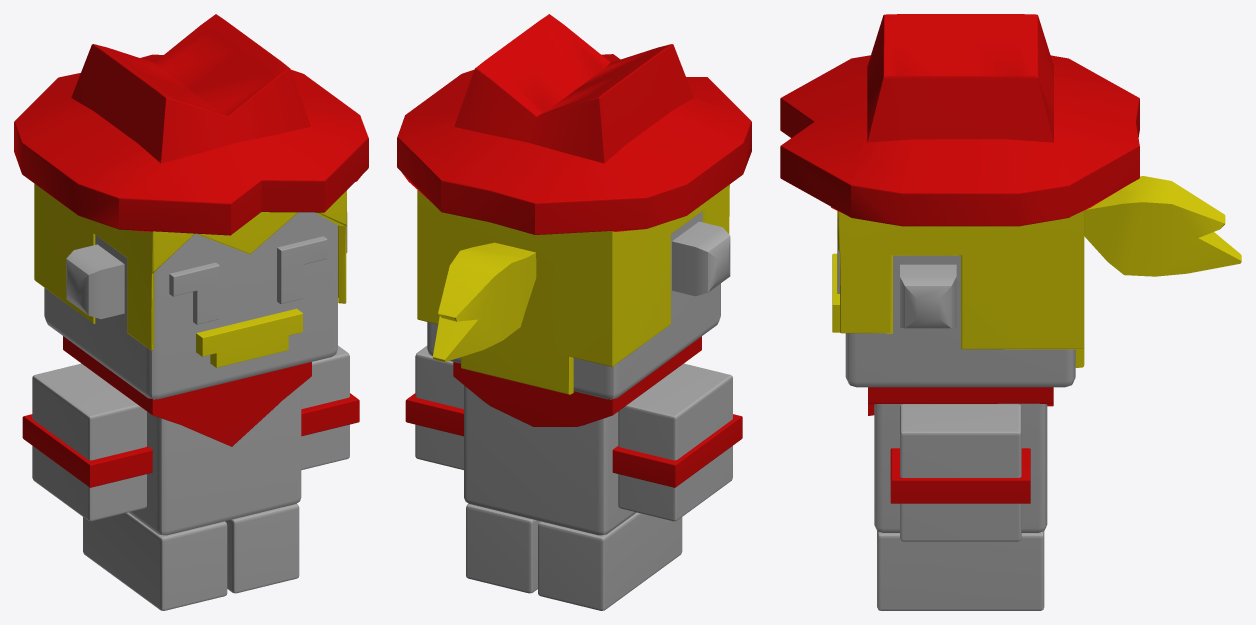
Rendered from _CowBoyFigure_low_completed_updated.fbx.
The picture shows the model from 3 angles, left to right: view 1: azimuth 30°, elevation 25°; view 2: azimuth 150°, elevation 25°; view 3: azimuth 270°, elevation 25°; orthographic projection. The views are drawn at different scales.
Visible parts, largest first — view 1: Cowboy_Hat, Head_low, Body_low, Hair, l_Arm_low, l_Leg_low, Bandana, r_Leg_low, Cufflinks, Eyes, Mustache, r_Arm_low (+1 smaller); view 2: Cowboy_Hat, Hair, Body_low, l_Arm_low, l_Leg_low, Hair_Ponytail, Head_low, Bandana, r_Leg_low, Cufflinks, r_Arm_low, Ears; view 3: Cowboy_Hat, Hair, r_Arm_low, Head_low, r_Leg_low, Hair_Ponytail, Body_low, Cufflinks, Ears, Bandana.
Part boxes in pixels (bbox=[...]): Cowboy_Hat: bbox=[14, 14, 368, 235]; Head_low: bbox=[44, 212, 337, 399]; Body_low: bbox=[81, 363, 301, 535]; Hair: bbox=[34, 183, 346, 350]; l_Arm_low: bbox=[32, 363, 146, 521]; l_Leg_low: bbox=[83, 512, 227, 610]; Bandana: bbox=[63, 336, 311, 446]; r_Leg_low: bbox=[225, 503, 299, 593]; Cufflinks: bbox=[22, 393, 359, 487]; Eyes: bbox=[169, 236, 327, 324]; Mustache: bbox=[196, 308, 302, 367]; r_Arm_low: bbox=[301, 345, 349, 469]; Cowboy_Hat: bbox=[397, 14, 751, 234]; Hair: bbox=[417, 184, 729, 394]; Body_low: bbox=[464, 385, 636, 535]; l_Arm_low: bbox=[618, 363, 732, 521]; l_Leg_low: bbox=[538, 512, 682, 610]; Hair_Ponytail: bbox=[433, 242, 536, 361]; Head_low: bbox=[427, 211, 720, 399]; Bandana: bbox=[453, 336, 701, 426]; r_Leg_low: bbox=[466, 503, 539, 593]; Cufflinks: bbox=[405, 393, 742, 487]; r_Arm_low: bbox=[415, 346, 463, 469]; Ears: bbox=[672, 221, 730, 296]; Cowboy_Hat: bbox=[780, 14, 1139, 226]; Hair: bbox=[837, 211, 1084, 367]; r_Arm_low: bbox=[900, 404, 1021, 541]; Head_low: bbox=[845, 255, 1075, 387]; r_Leg_low: bbox=[877, 531, 1044, 610]; Hair_Ponytail: bbox=[1084, 176, 1241, 276]; Body_low: bbox=[874, 403, 1047, 532]; Cufflinks: bbox=[890, 448, 1030, 503]; Ears: bbox=[900, 264, 956, 328]; Bandana: bbox=[868, 387, 1053, 415].
Size of the model in its own units: 8.93 by 15.45 by 12.15.
